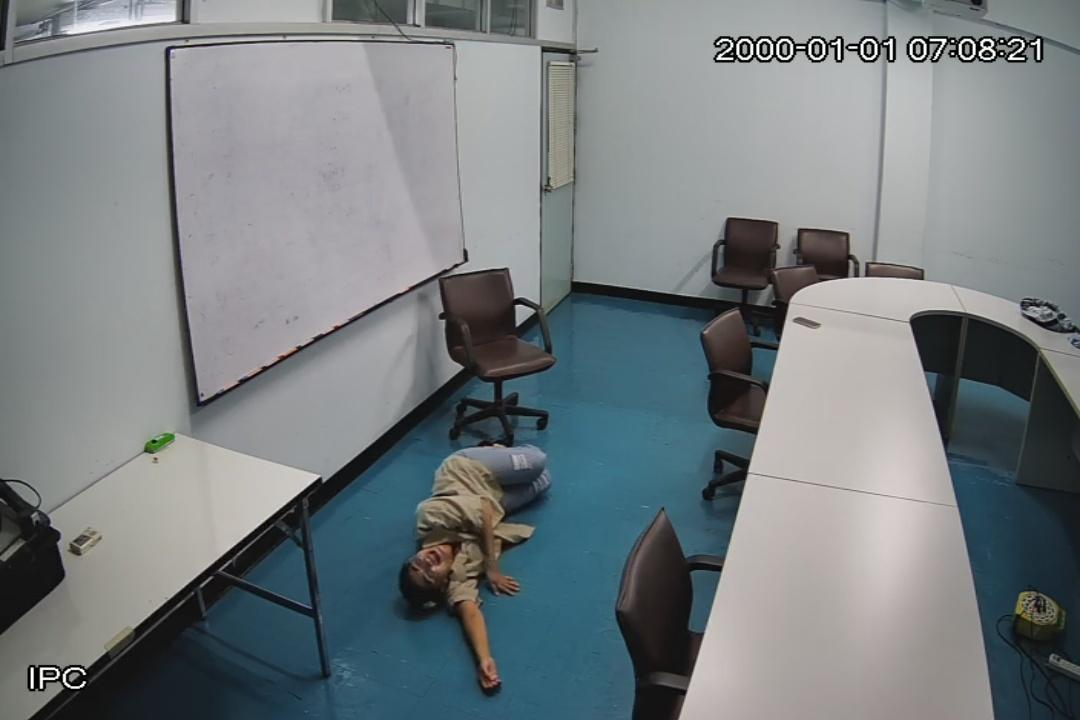fall: (390, 426, 554, 699)
